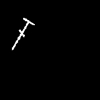double_crochet: (12, 18, 34, 49)
